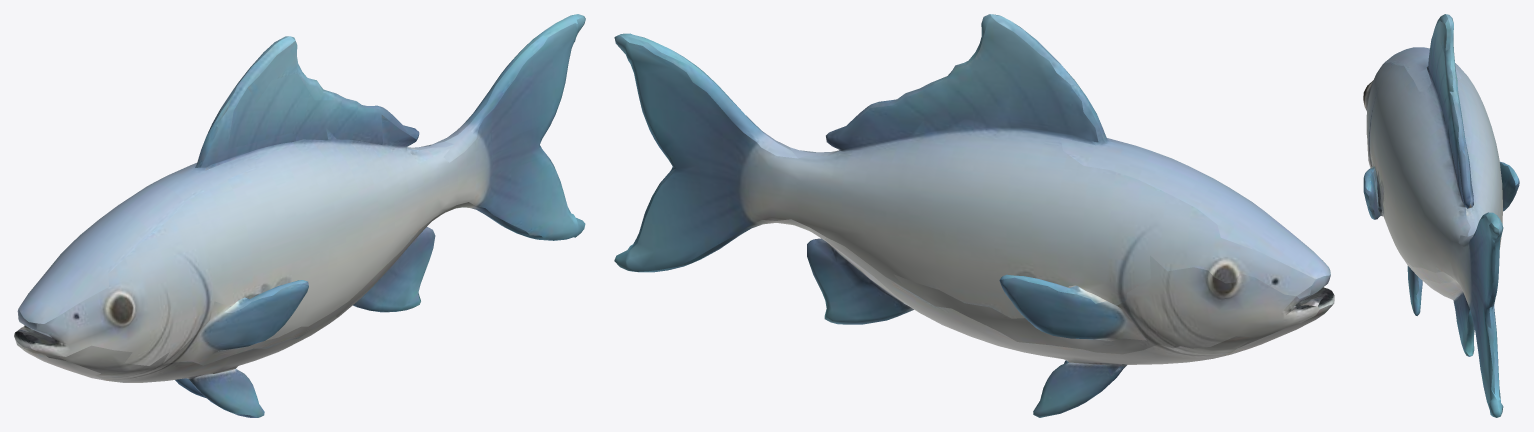
The model's file is fish_winter.glb.
3 views of the same model, side by side, from view 1: azimuth 30°, elevation 25°; view 2: azimuth 150°, elevation 25°; view 3: azimuth 270°, elevation 25° (orthographic). The views are drawn at different scales.
Parts seen in each view (by area): view 1: item_fish_winter; view 2: item_fish_winter; view 3: item_fish_winter.
Boxes of the visible parts, x1,y1,x2,y2 form: item_fish_winter: (14, 14, 585, 417); item_fish_winter: (614, 14, 1334, 417); item_fish_winter: (1363, 14, 1519, 417).
Bounding box in the file's own units: 1 × 0.551 × 0.2459.
1 material, 1 textured.
